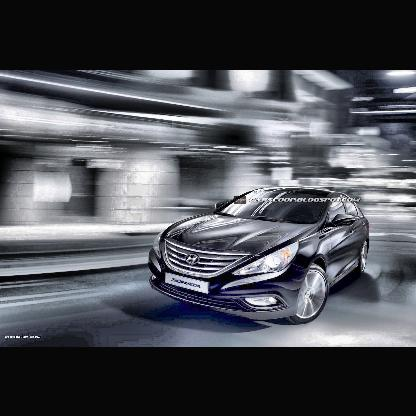Hyundai Sonata Sedan 2012: (149, 186, 372, 326)
